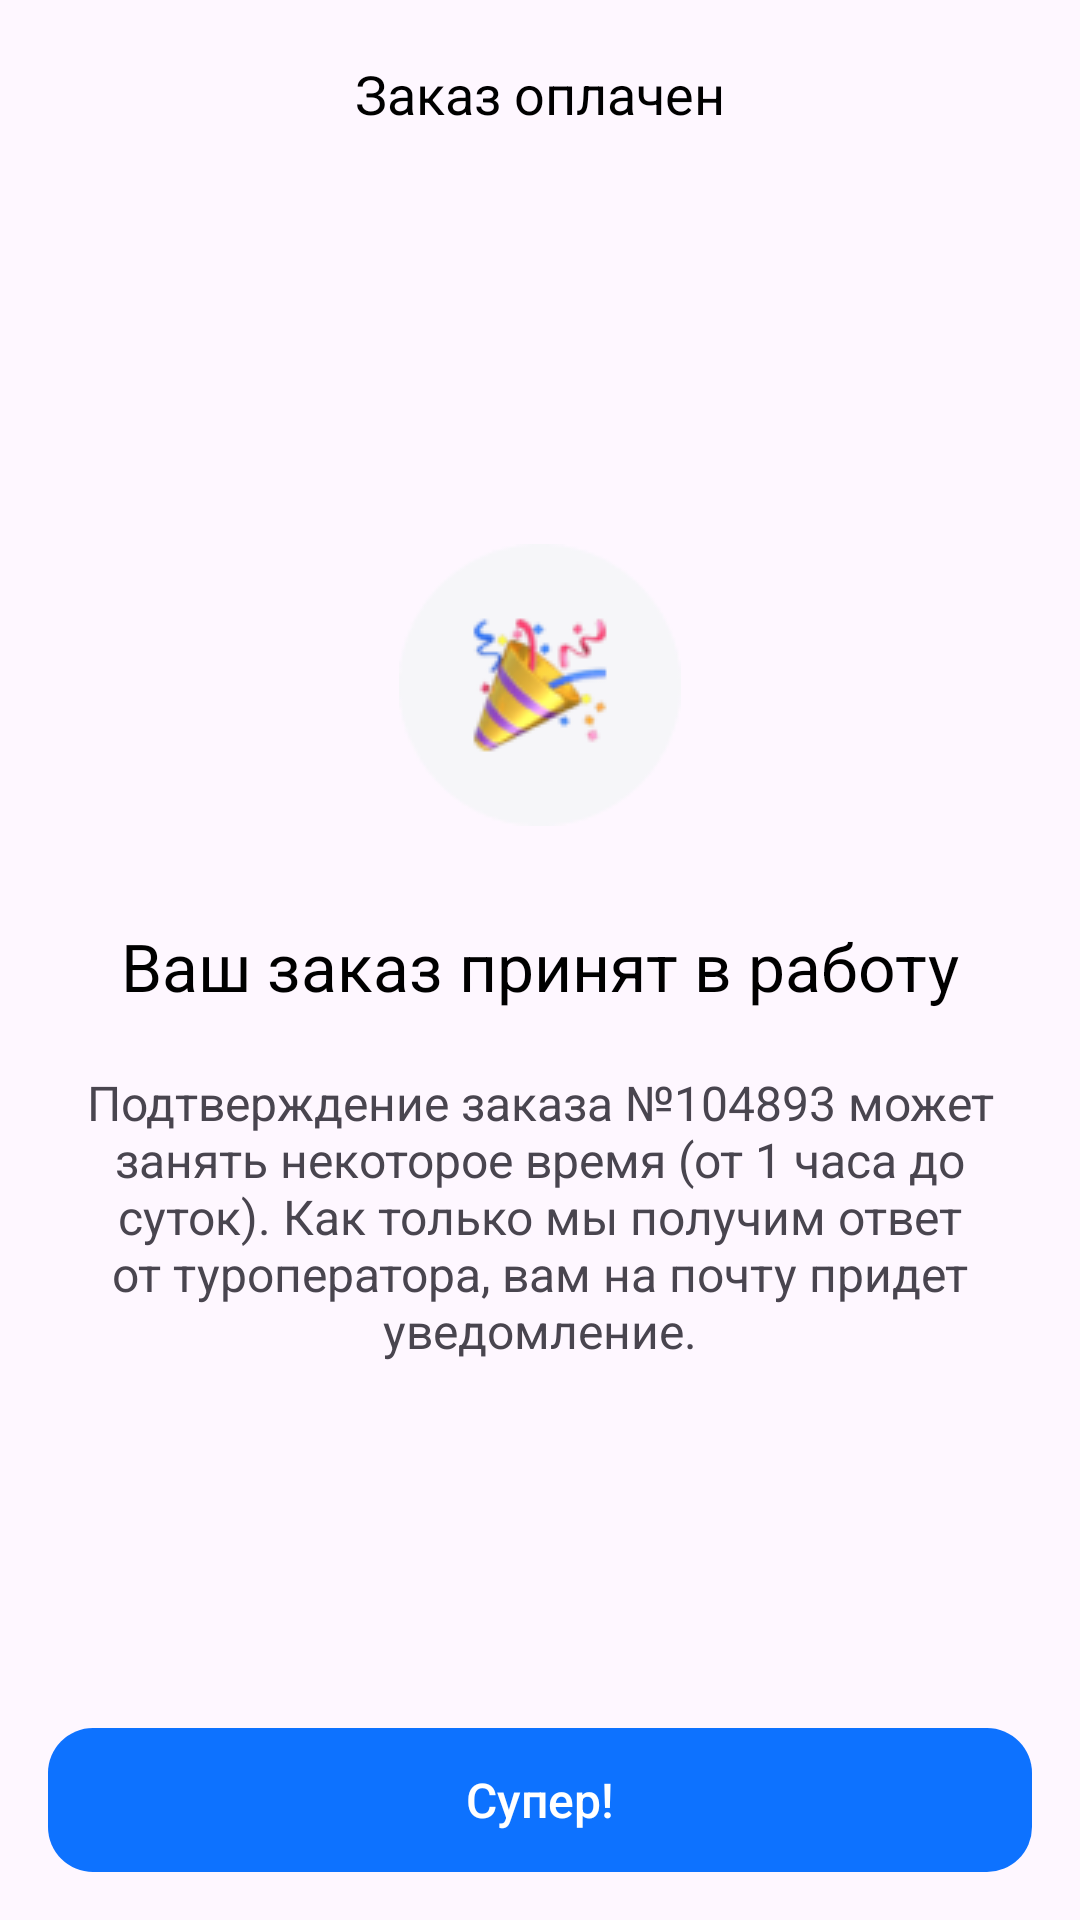

Icons on this 1080 × 1920 Android screen, each with its box as bbox(x1, y1, x2, y2):
party: bbox(473, 618, 607, 752)
